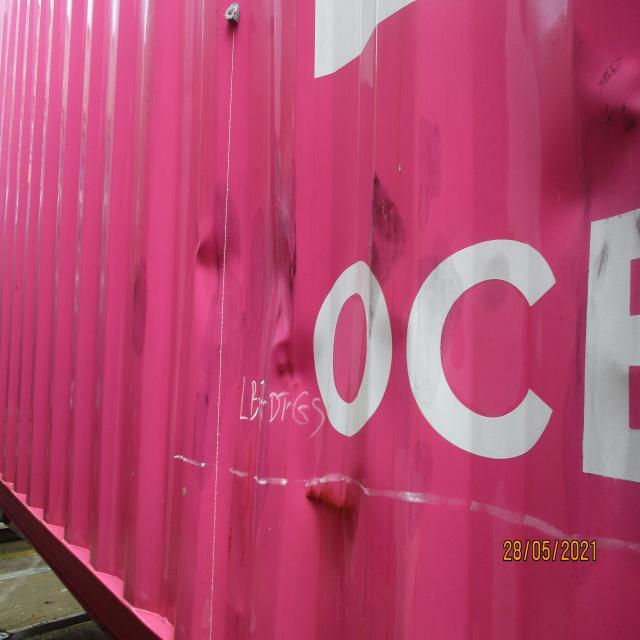Dent: (166, 110, 477, 421), (468, 0, 640, 254), (278, 440, 422, 557)
